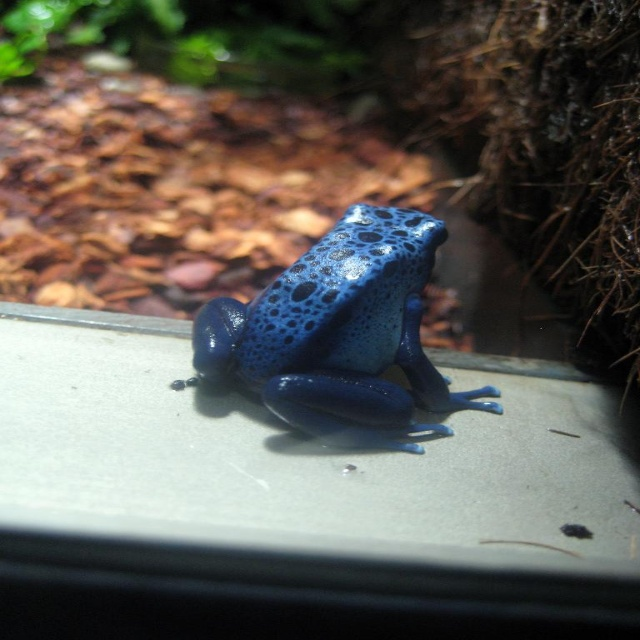Frog: (190, 203, 505, 452)
